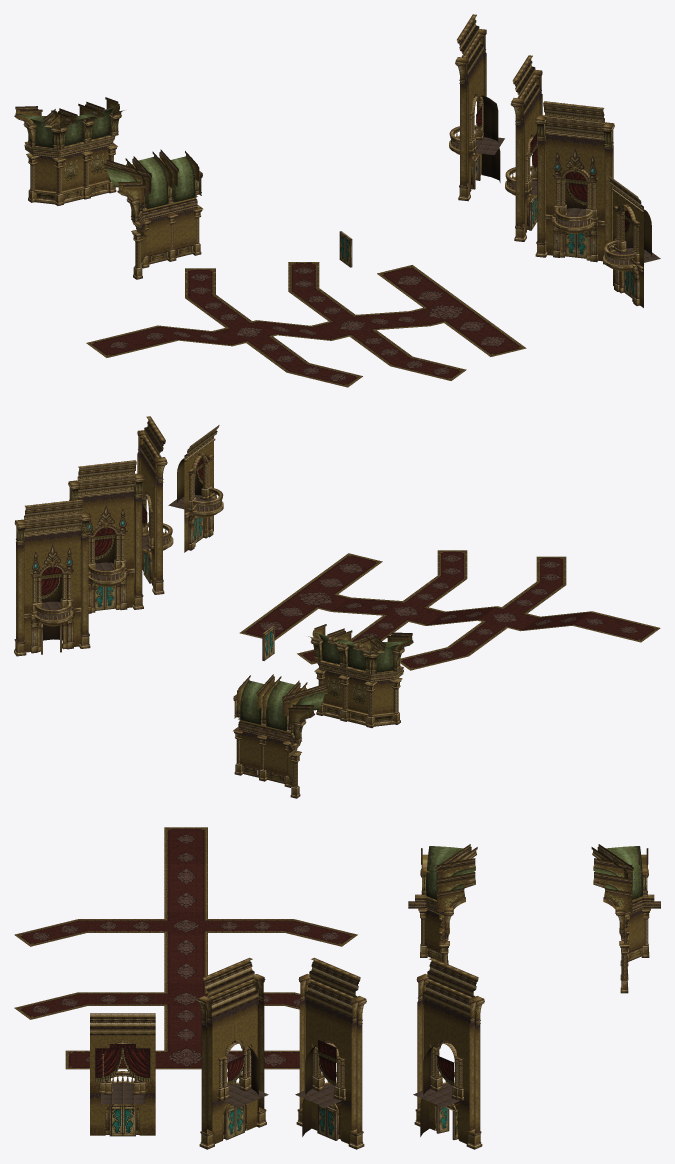
File: EnvMdrMD_Theater_A_Door_A_L.FBX
3 renders of one model, top to bottom at view 1: azimuth 30°, elevation 25°; view 2: azimuth 150°, elevation 25°; view 3: azimuth 270°, elevation 25°, orthographic. The views are drawn at different scales.
Visible parts, largest first — view 1: EnvMdrMD_Theater_A_Floor_A_Carpet, EnvMdrMD_Theater_A_Enter_A, EnvMdrMD_Theater_A_Door_A_L, EnvMdrMD_Theater_A_Door_A_R, EnvMdrMD_Theater_A_Door_A_R_Close, EnvMdrMD_Theater_A_Door_B; view 2: EnvMdrMD_Theater_A_Floor_A_Carpet, EnvMdrMD_Theater_A_Enter_A, EnvMdrMD_Theater_A_Door_A_R, EnvMdrMD_Theater_A_Door_A_R_Close, EnvMdrMD_Theater_A_Door_A_L, EnvMdrMD_Theater_A_Door_B; view 3: EnvMdrMD_Theater_A_Floor_A_Carpet, EnvMdrMD_Theater_A_Door_A_R_Close, EnvMdrMD_Theater_A_Door_A_L, EnvMdrMD_Theater_A_Door_A_R, EnvMdrMD_Theater_A_Enter_A, EnvMdrMD_Theater_A_Door_B.
Boxes of the visible parts, bbox=[...] form: EnvMdrMD_Theater_A_Floor_A_Carpet: bbox=[86, 262, 526, 387]; EnvMdrMD_Theater_A_Enter_A: bbox=[14, 97, 203, 279]; EnvMdrMD_Theater_A_Door_A_L: bbox=[534, 101, 614, 264]; EnvMdrMD_Theater_A_Door_A_R: bbox=[449, 14, 504, 201]; EnvMdrMD_Theater_A_Door_A_R_Close: bbox=[505, 55, 542, 241]; EnvMdrMD_Theater_A_Door_B: bbox=[603, 174, 660, 307]; EnvMdrMD_Theater_A_Floor_A_Carpet: bbox=[239, 550, 660, 670]; EnvMdrMD_Theater_A_Enter_A: bbox=[233, 624, 413, 798]; EnvMdrMD_Theater_A_Door_A_R: bbox=[14, 499, 91, 656]; EnvMdrMD_Theater_A_Door_A_R_Close: bbox=[68, 460, 144, 613]; EnvMdrMD_Theater_A_Door_A_L: bbox=[137, 416, 173, 594]; EnvMdrMD_Theater_A_Door_B: bbox=[168, 425, 223, 552]; EnvMdrMD_Theater_A_Floor_A_Carpet: bbox=[14, 827, 357, 1069]; EnvMdrMD_Theater_A_Door_A_R_Close: bbox=[295, 957, 366, 1149]; EnvMdrMD_Theater_A_Door_A_L: bbox=[197, 957, 268, 1149]; EnvMdrMD_Theater_A_Door_A_R: bbox=[413, 957, 484, 1149]; EnvMdrMD_Theater_A_Enter_A: bbox=[408, 844, 660, 993]; EnvMdrMD_Theater_A_Door_B: bbox=[90, 1013, 155, 1136].
Size of the model in its own units: 5902 by 1660 by 5899.
Materials: 5 (5 with a texture image).
